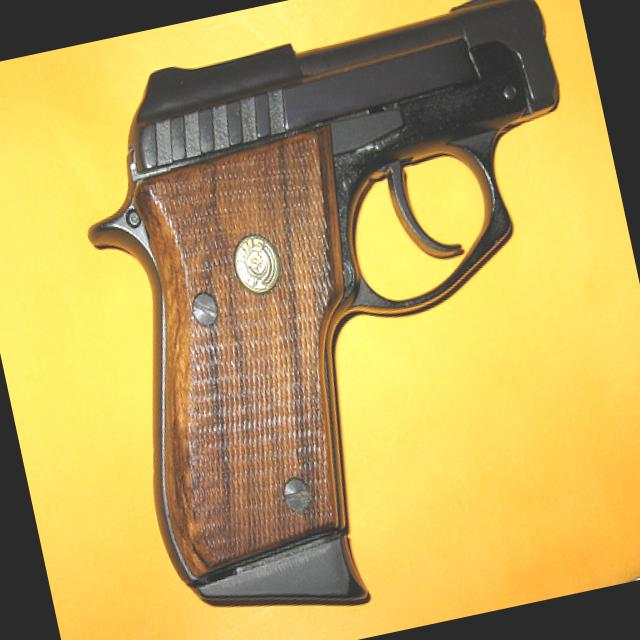handgun: (47, 0, 639, 639)
